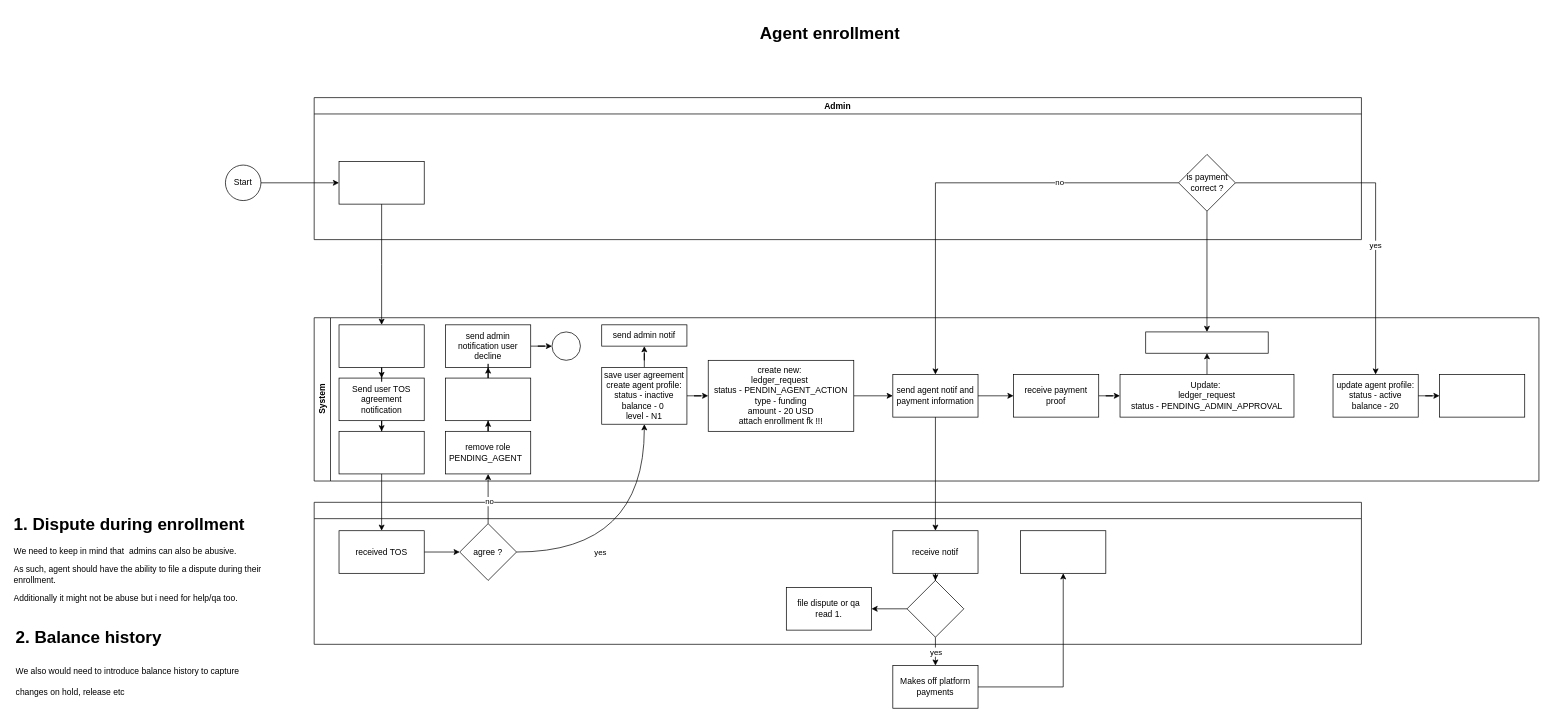
This 1551x721 diagram has some shape labels left out. Each missing label, with the box of its shape:
Add role to user: PENDING_AGENT: (338, 324, 424, 367)
Agents: (313, 502, 1361, 644)
all good?: (906, 580, 964, 637)
create new enrollment request and attach admin and user: (338, 431, 424, 474)
end: (551, 331, 580, 360)
Pick an user to promote: (338, 161, 424, 204)
Send admin approval request: (1145, 331, 1268, 353)
update enrollment status as decline: (445, 377, 531, 421)
update ledger_request Status - DONE: (1439, 374, 1525, 417)
upload proof: (1020, 530, 1106, 573)
